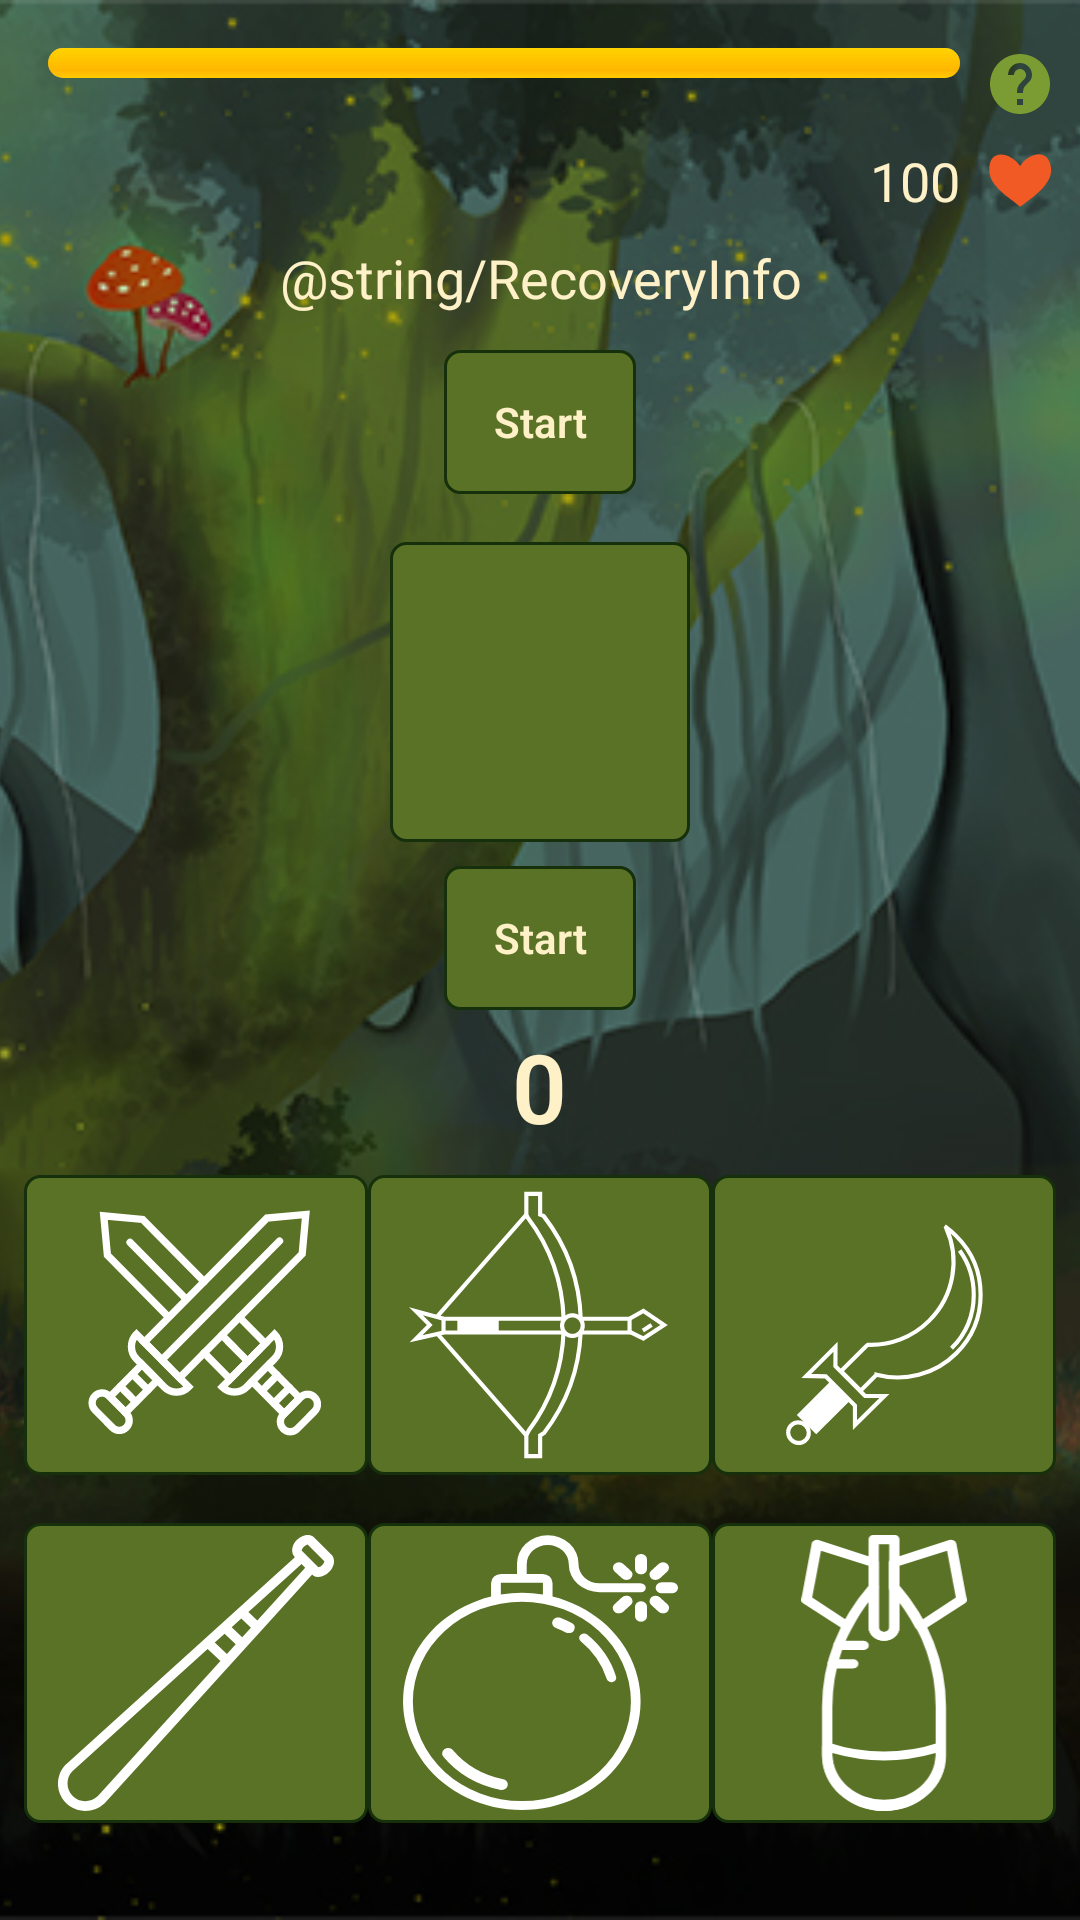

Icons on this 1080*1920 Android screen, each with the point to tap as [x,y]:
arc: [540,1325]
baseball: [196,1673]
bigbomb: [884,1673]
bomb: [540,1673]
help: [1017,84]
miecz: [196,1325]
serce: [1020,178]
sickle: [884,1325]
